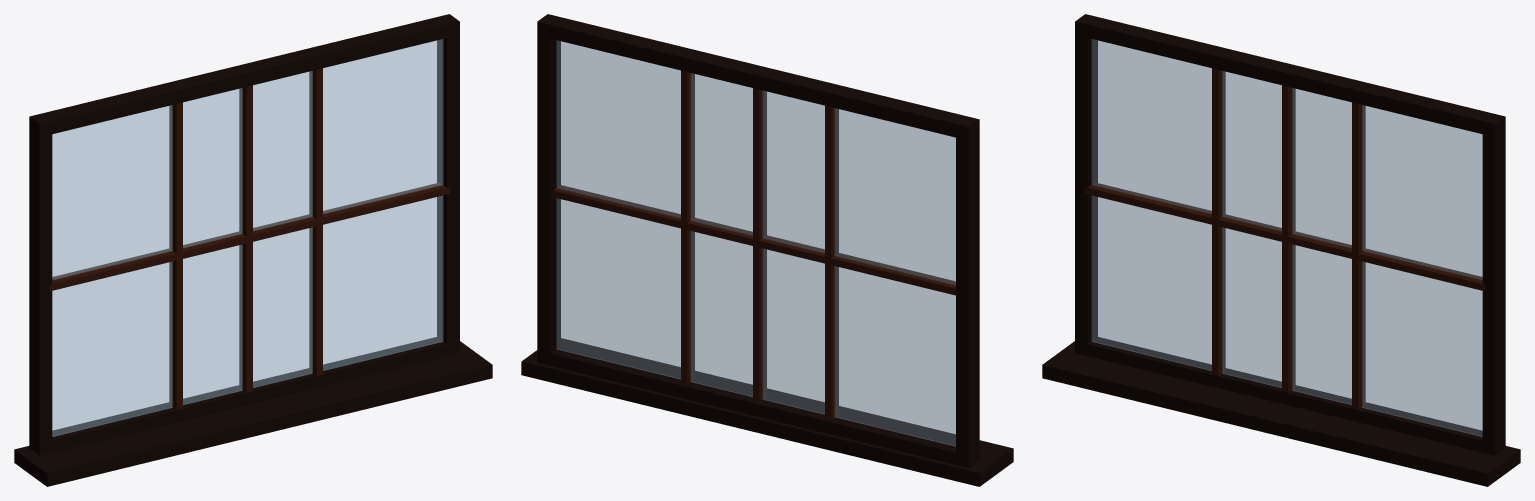
The model's file is window.glb.
The picture shows the model from 3 angles, left to right: view 1: azimuth 30°, elevation 25°; view 2: azimuth 150°, elevation 25°; view 3: azimuth 330°, elevation 25°; orthographic projection. The views are drawn at different scales.
Visible parts, largest first — view 1: window; view 2: window; view 3: window.
Boxes of the visible parts, x1,y1,x2,y2 form: window: [14, 14, 492, 486]; window: [521, 14, 1013, 486]; window: [1042, 14, 1520, 486].
Size of the model in its own units: 3.5 by 2.59 by 0.4499.
